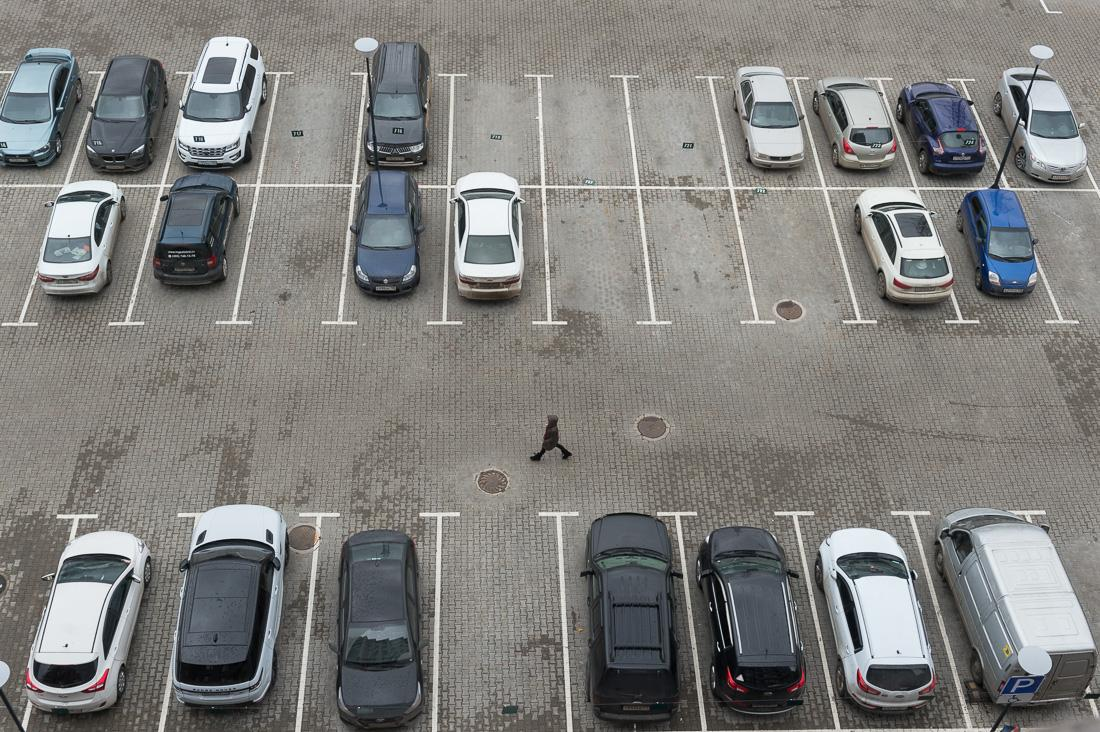occupied: (794, 512, 969, 726), (24, 516, 197, 728), (677, 514, 837, 727), (161, 516, 319, 727), (559, 514, 705, 729), (299, 515, 439, 728), (434, 515, 570, 729), (21, 186, 162, 324), (917, 189, 1062, 322), (825, 189, 962, 322), (127, 186, 258, 324), (340, 185, 449, 322), (962, 80, 1097, 190), (444, 187, 550, 323), (878, 79, 1008, 189), (65, 72, 190, 186), (795, 78, 917, 189), (163, 73, 278, 186), (710, 78, 825, 189), (354, 74, 452, 187)
vacant: (732, 188, 860, 322), (234, 185, 354, 322), (638, 187, 757, 322), (544, 187, 654, 322), (259, 73, 366, 186), (625, 77, 731, 189), (540, 76, 638, 187), (449, 75, 543, 187)
